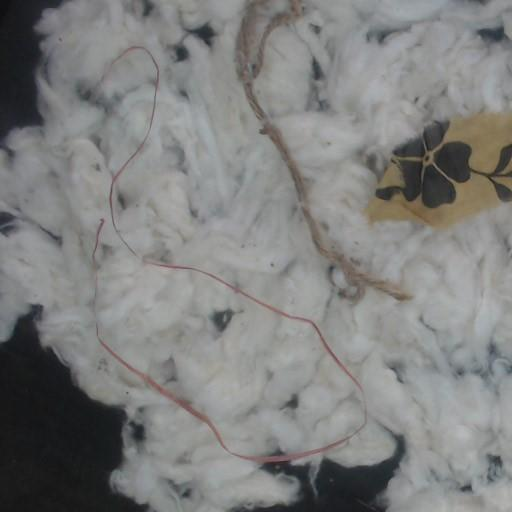cloth: (367, 113, 511, 226)
conveyor belt: (0, 307, 142, 511), (260, 441, 402, 511), (479, 28, 504, 41)
cotton: (0, 0, 511, 511)
jute: (236, 0, 409, 299)
thread: (89, 57, 366, 462), (101, 45, 363, 398), (97, 327, 367, 462), (93, 220, 103, 262)
